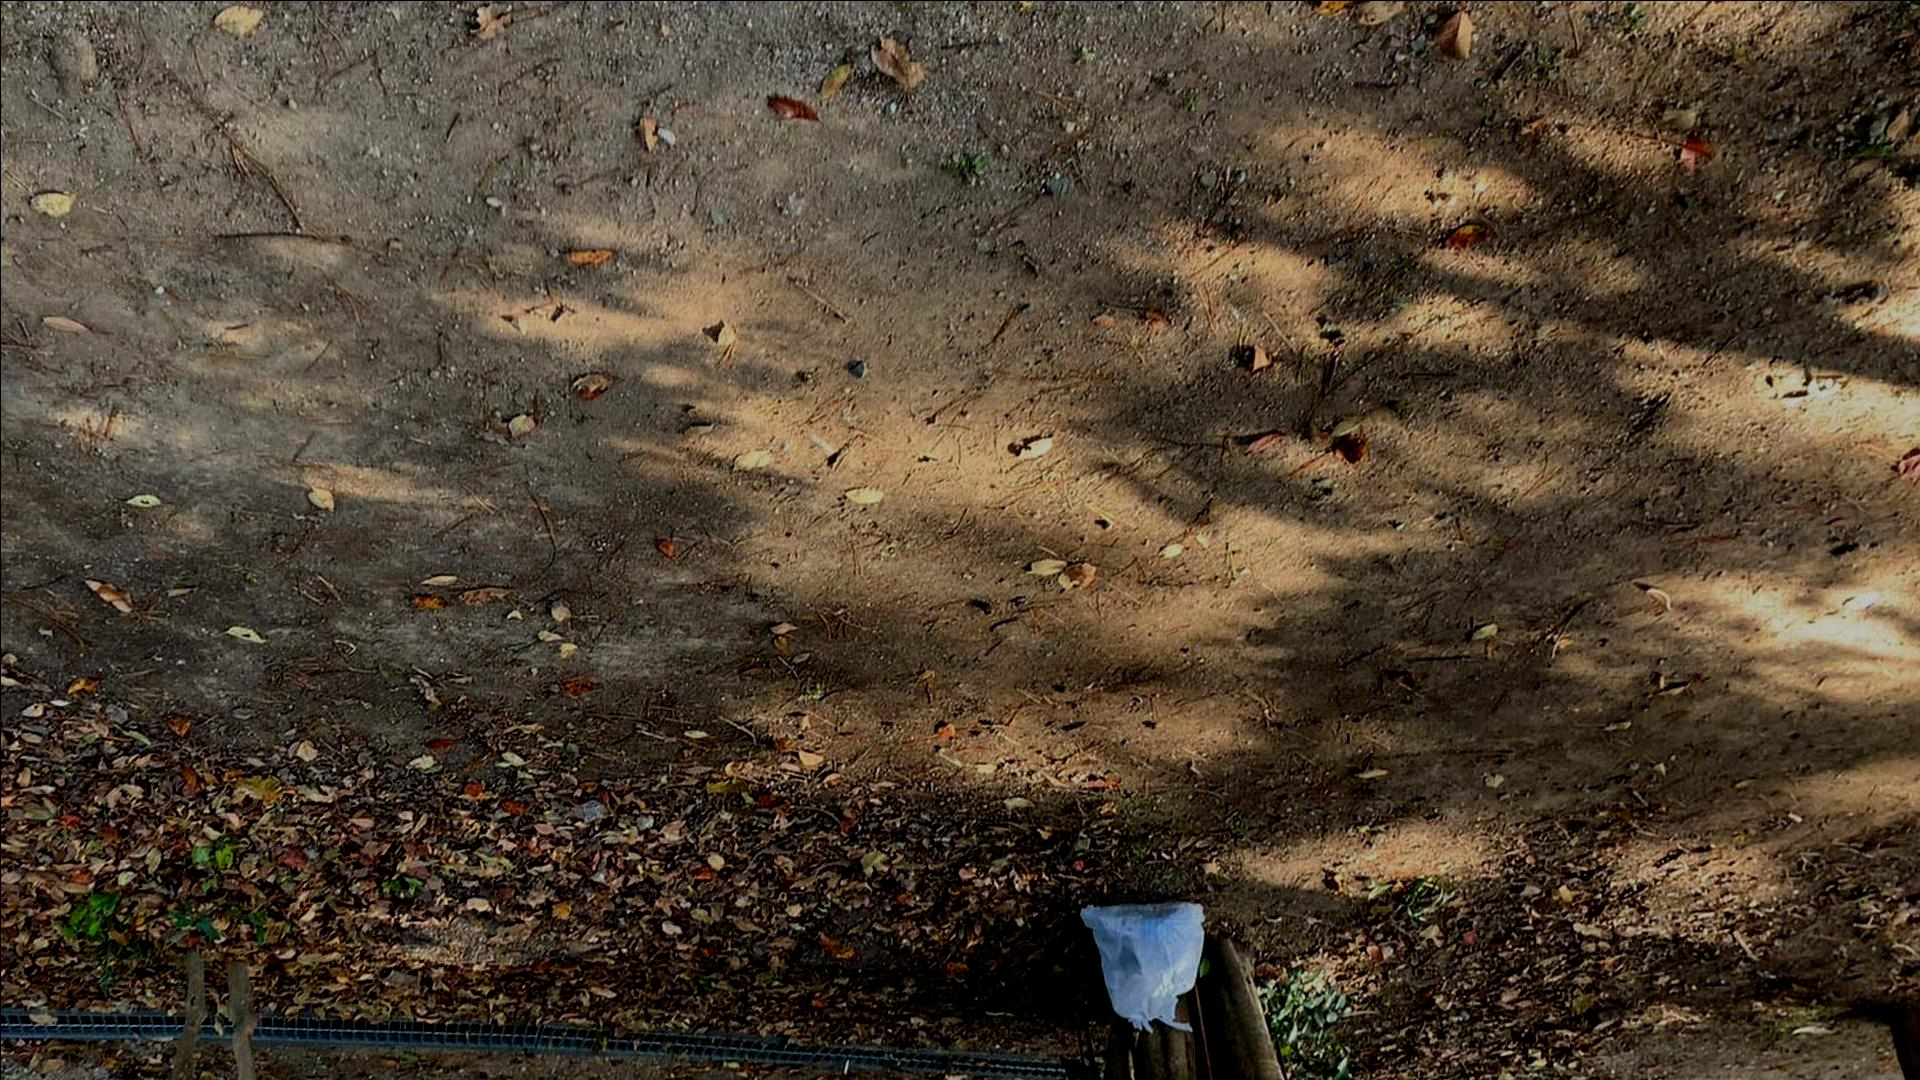white_bag: (1072, 891, 1218, 1040)
